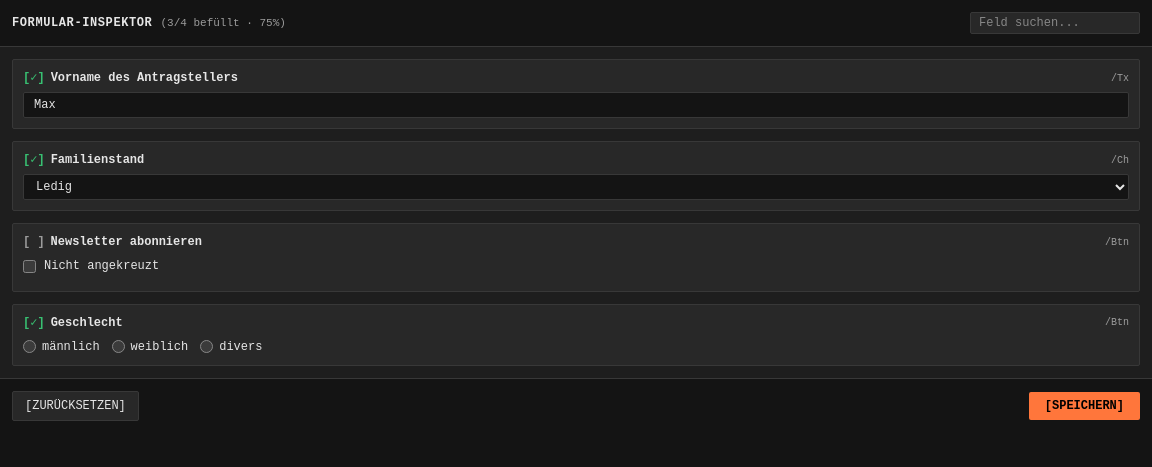
Test: FormInspector Component › handles error during saving gracefully
Click the button with test id "inspector-save-btn" at (1084, 406), box [1029, 392, 1140, 420]
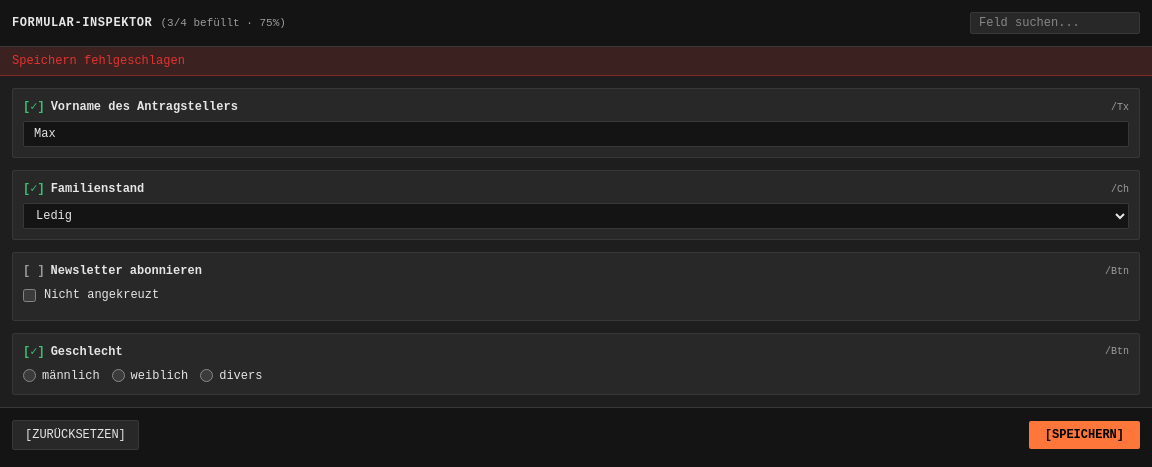
Result: the text "Speichern fehlgeschlagen" is shown at [0, 47, 1151, 76]
